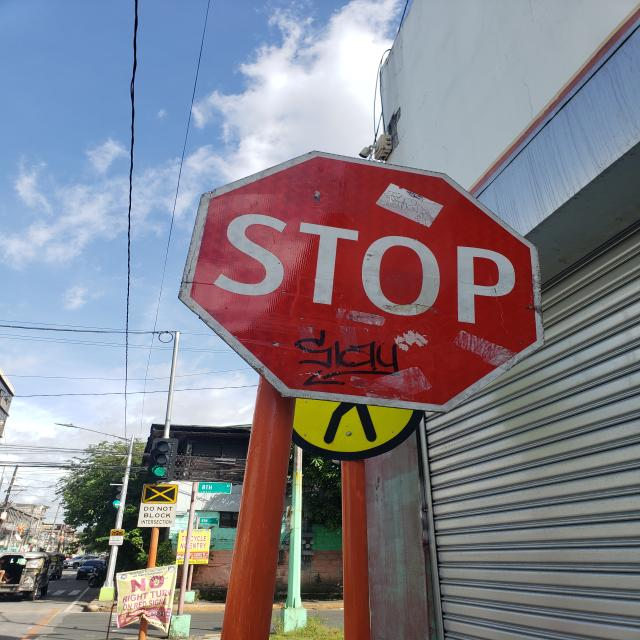stop-sign: (178, 149, 545, 414)
